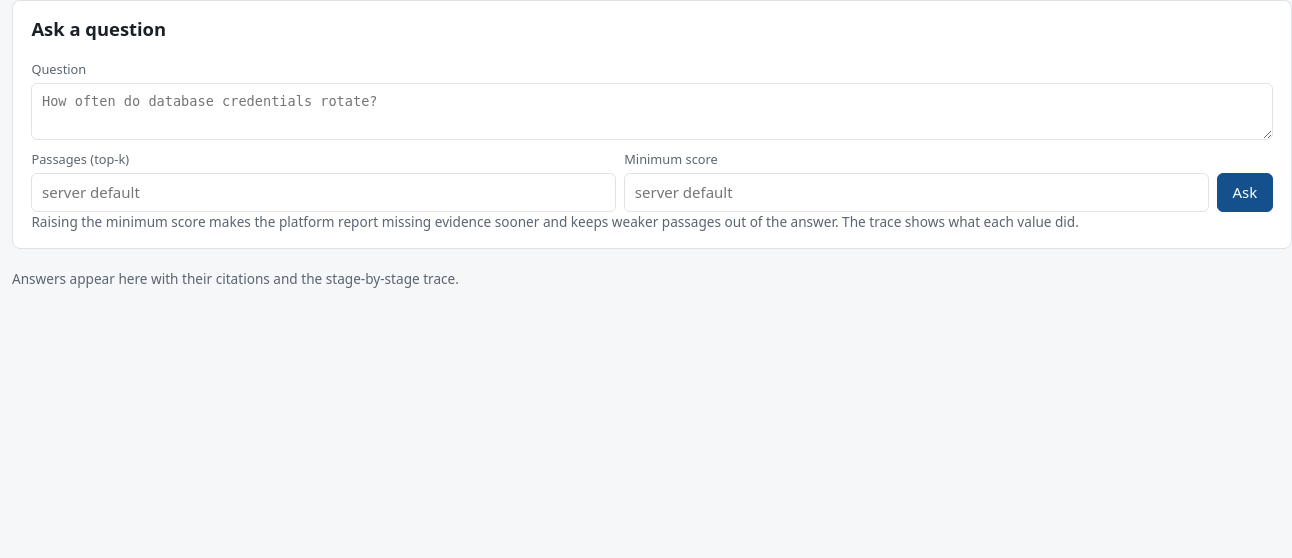
Test: QueryPanel › reports missing evidence as a result with the counts that explain it
The image size is (1292, 558).
Type "What is the holiday schedule?" into the text box labelled "Question" at [652, 112], box [31, 83, 1273, 140]
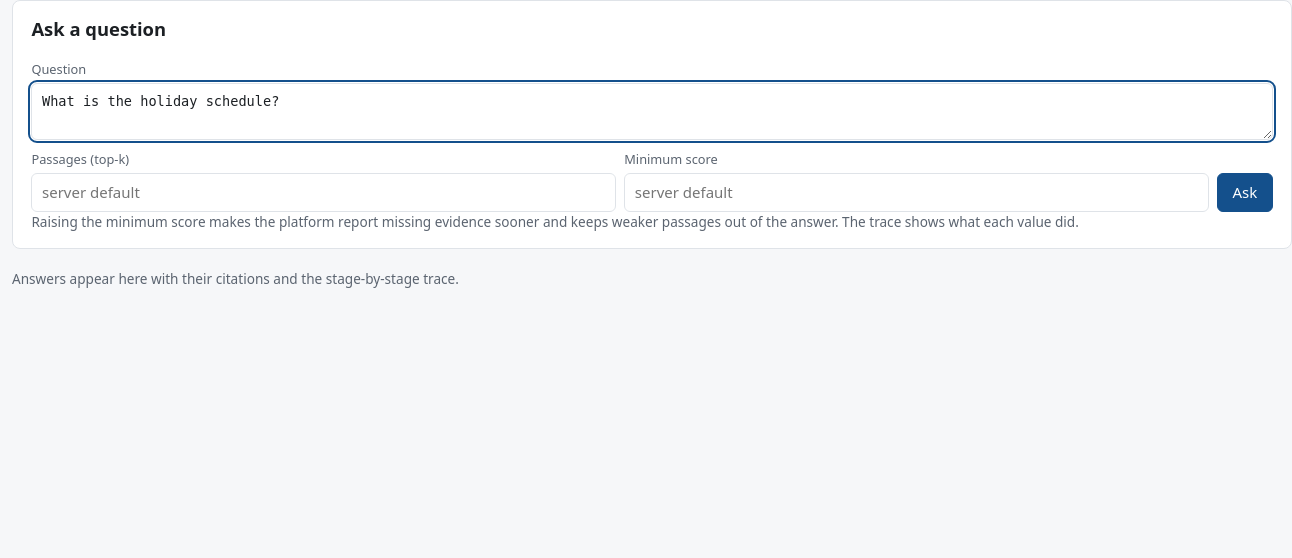
Click the button "Ask" at [1245, 193], box [1217, 173, 1273, 212]
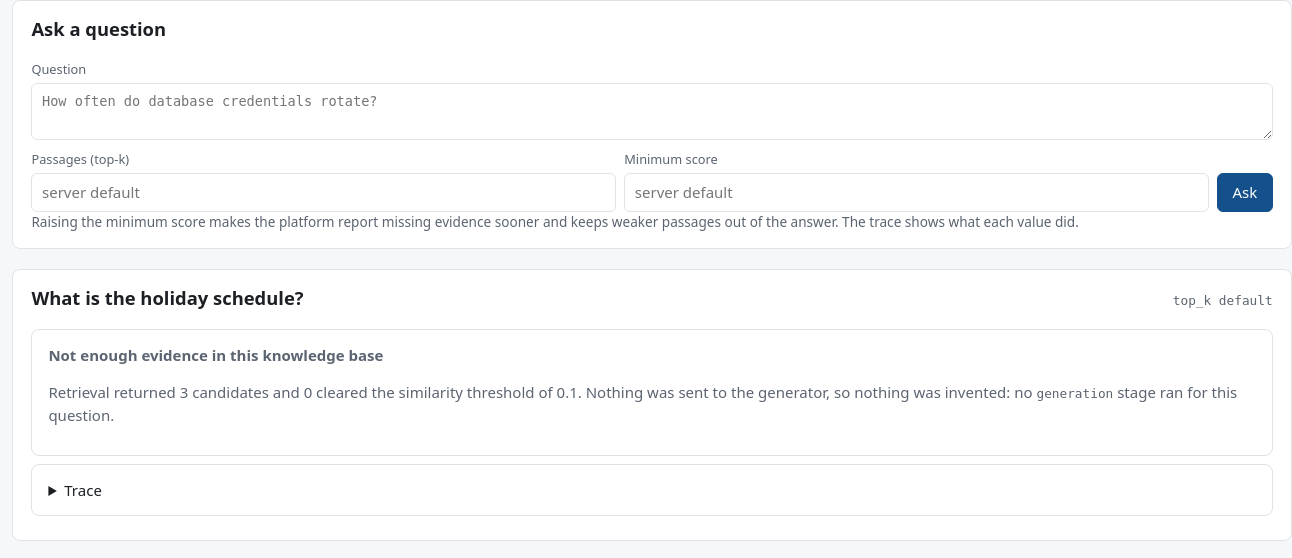
Check: the text "Not enough evidence in this knowledge base" is shown, box [48, 345, 383, 365]
Check: the text "3 candidates and 0 cleared the similarity" is shown, box [48, 382, 1256, 426]
Check: the text "stage ran for this question" is shown, box [48, 382, 1237, 425]
